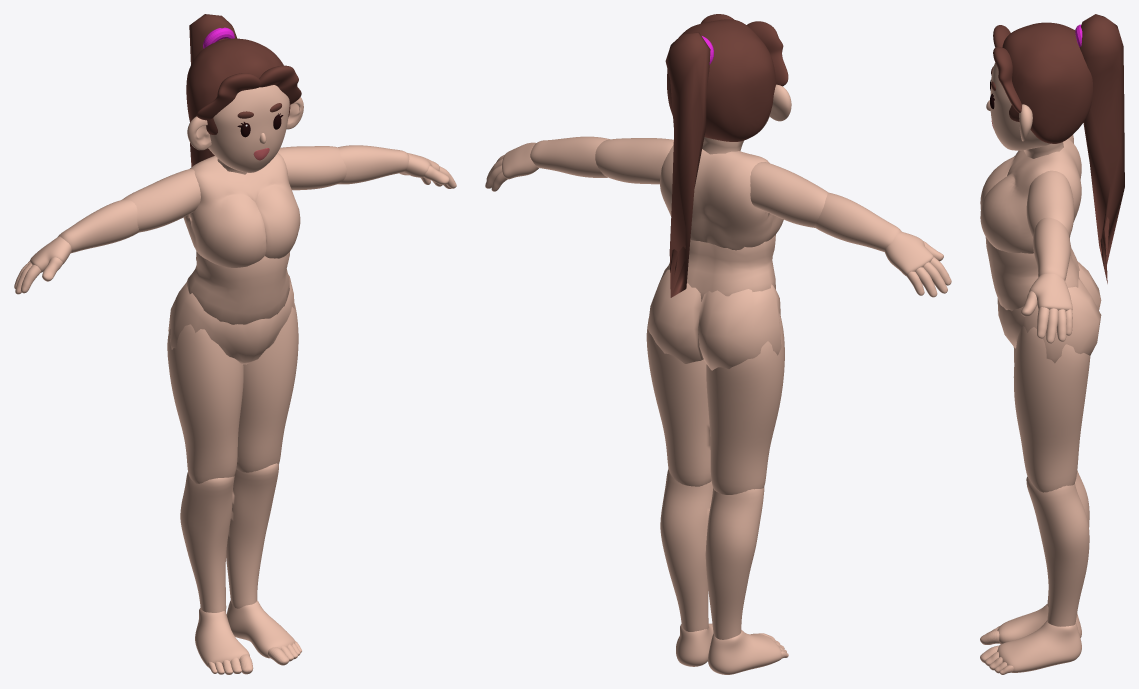
The model's file is female_model6.glb.
3 renders of one model, left to right at view 1: azimuth 30°, elevation 25°; view 2: azimuth 150°, elevation 25°; view 3: azimuth 270°, elevation 25°, orthographic. The views are drawn at different scales.
Parts seen in each view (by area): view 1: leg.004, chest 1.004, arm.004, foot.004, head.005, arm 2.004, pelvis.004, Icosphere.009, hand.004, Cube.020, Icosphere.010, ears.005; view 2: leg.004, chest 1.004, pelvis.004, Icosphere.009, Icosphere.010, arm.004, arm 2.004, hand.004, foot.004, Cube.020; view 3: leg.004, chest 1.004, Icosphere.009, Icosphere.010, foot.004, pelvis.004, hand.004, arm.004, arm 2.004, head.005, Cube.020, ears.005 (+1 smaller).
Boxes of the visible parts, x1,y1,x2,y2 form: leg.004: [167, 303, 298, 612]; chest 1.004: [183, 153, 300, 324]; arm.004: [122, 146, 346, 232]; foot.004: [195, 600, 301, 674]; head.005: [208, 85, 289, 172]; arm 2.004: [58, 145, 409, 253]; pelvis.004: [168, 274, 294, 364]; Icosphere.009: [186, 38, 290, 134]; hand.004: [14, 153, 456, 294]; Cube.020: [196, 65, 301, 120]; Icosphere.010: [189, 14, 237, 166]; ears.005: [187, 97, 303, 150]; leg.004: [646, 313, 784, 639]; chest 1.004: [660, 145, 783, 301]; pelvis.004: [648, 266, 781, 370]; Icosphere.009: [667, 19, 775, 141]; Icosphere.010: [665, 32, 710, 297]; arm.004: [595, 138, 828, 227]; arm 2.004: [530, 136, 901, 251]; hand.004: [485, 142, 951, 297]; foot.004: [676, 623, 788, 674]; Cube.020: [700, 14, 788, 86]; leg.004: [1013, 326, 1090, 626]; chest 1.004: [980, 138, 1081, 310]; Icosphere.009: [1002, 22, 1092, 143]; Icosphere.010: [1079, 14, 1124, 283]; foot.004: [980, 604, 1081, 674]; pelvis.004: [997, 261, 1101, 363]; hand.004: [1021, 273, 1072, 343]; arm.004: [1026, 134, 1073, 238]; arm 2.004: [1033, 217, 1070, 280]; head.005: [990, 62, 1050, 150]; Cube.020: [993, 25, 1021, 112]; ears.005: [1019, 104, 1032, 141].
Bounding box in the file's own units: 15.4 × 20.77 × 4.28.
